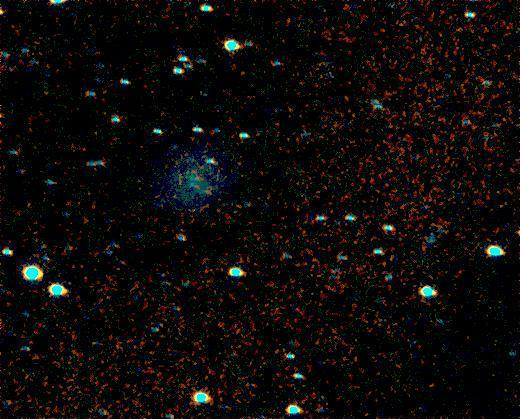star: (252, 190, 282, 220)
